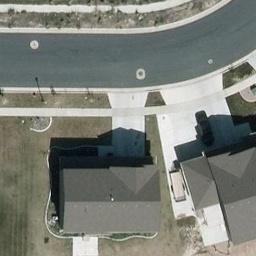car: (192, 110, 217, 144)
